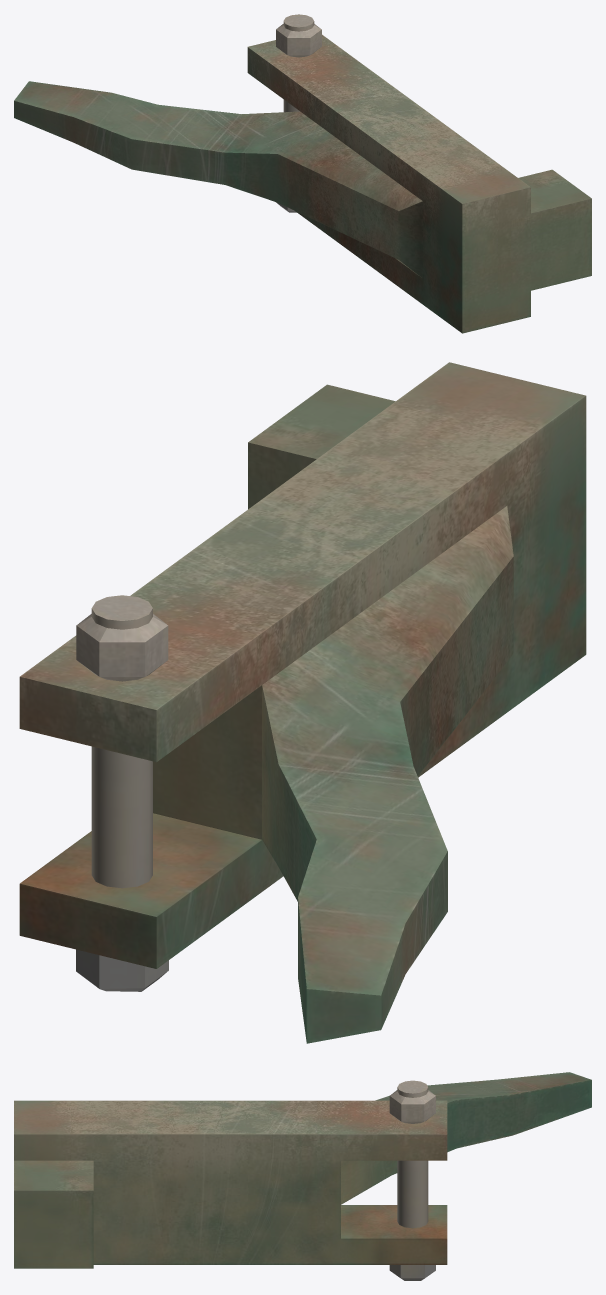
The model's file is PelletMill_DoorLatch.gltf.
3 renders of one model, top to bottom at view 1: azimuth 30°, elevation 25°; view 2: azimuth 150°, elevation 25°; view 3: azimuth 270°, elevation 25°, orthographic. The views are drawn at different scales.
Visible parts, largest first — view 1: DoorLatch001, NutAndBolt020; view 2: DoorLatch001, NutAndBolt020; view 3: DoorLatch001, NutAndBolt020.
Part boxes in pixels (x1=…): DoorLatch001: x1=14, y1=34, x2=591, y2=333; NutAndBolt020: x1=276, y1=14, x2=321, y2=212; DoorLatch001: x1=19, y1=362, x2=586, y2=1043; NutAndBolt020: x1=76, y1=595, x2=168, y2=991; DoorLatch001: x1=14, y1=1072, x2=591, y2=1268; NutAndBolt020: x1=389, y1=1080, x2=435, y2=1280.
Bounding box in the file's own units: 0.0561 × 0.0329 × 0.092.
1 material, 1 textured.
